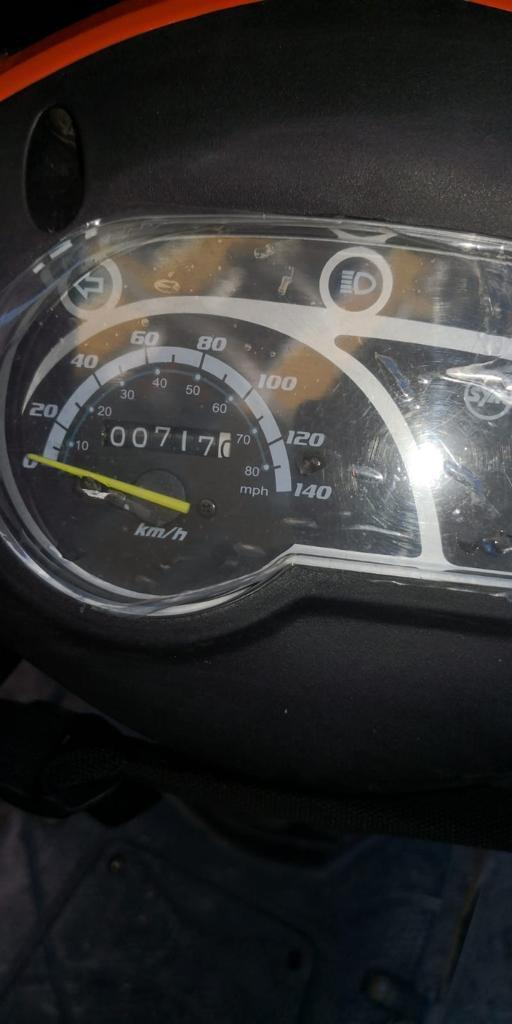0: (131, 426, 147, 448), (110, 425, 125, 447), (220, 439, 233, 458)
1: (180, 429, 188, 452)
7: (197, 435, 214, 456), (155, 426, 171, 447)
odometer: (101, 418, 232, 460)
